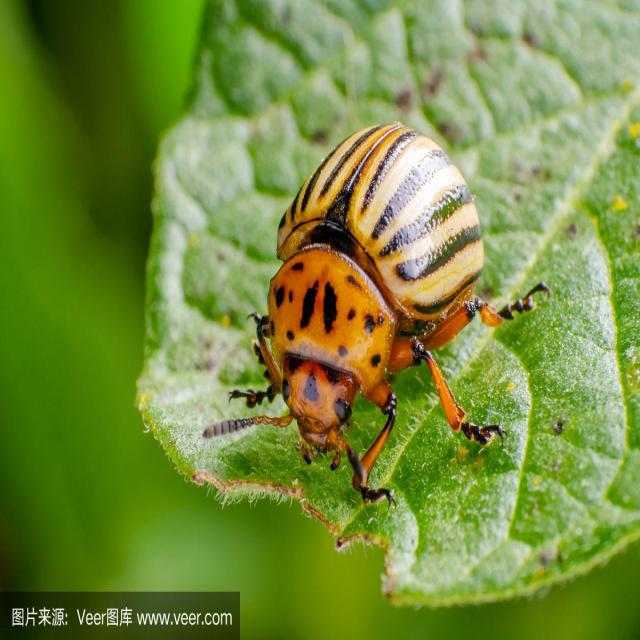ShuCaiHuaBanChong-Grown-: (234, 81, 484, 473)
